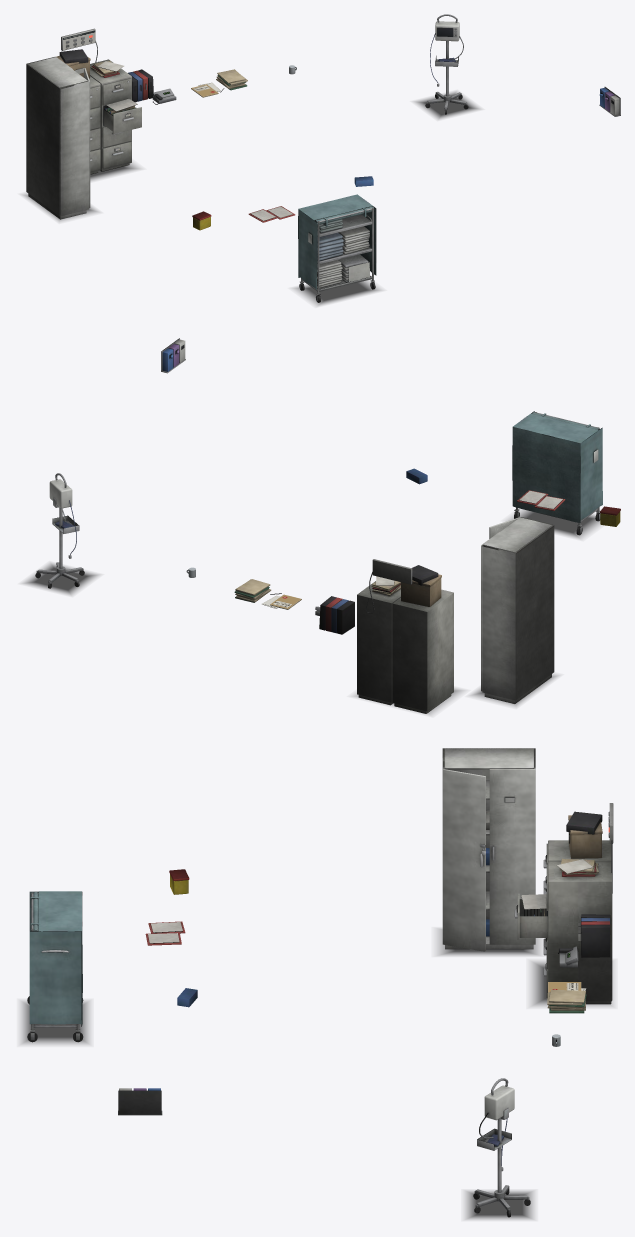
File: station_set.glb
The picture shows the model from 3 angles, top to bottom: view 1: azimuth 30°, elevation 25°; view 2: azimuth 150°, elevation 25°; view 3: azimuth 270°, elevation 25°; orthographic projection. The views are drawn at different scales.
Visible parts, largest first — view 1: station_supply_cupboard, station_linen_trolley, station_cabinet_b, station_paperwork, station_contact_shadows, station_cabinet_a, station_obs_machine, station_print, station_glove_dispenser; view 2: station_supply_cupboard, station_linen_trolley, station_cabinet_a, station_cabinet_b, station_paperwork, station_contact_shadows, station_obs_machine, station_annunciator, station_glove_dispenser; view 3: station_supply_cupboard, station_cabinet_b, station_linen_trolley, station_contact_shadows, station_paperwork, station_obs_machine, station_cabinet_a, station_glove_dispenser.
Part boxes in pixels (left/top/right/bottom): station_supply_cupboard: left=26, top=57, right=90, bottom=219; station_linen_trolley: left=298, top=194, right=376, bottom=302; station_cabinet_b: left=90, top=59, right=141, bottom=171; station_paperwork: left=128, top=65, right=373, bottom=230; station_contact_shadows: left=23, top=91, right=479, bottom=305; station_cabinet_a: left=56, top=49, right=100, bottom=174; station_obs_machine: left=425, top=14, right=468, bottom=114; station_print: left=63, top=30, right=219, bottom=96; station_glove_dispenser: left=599, top=87, right=620, bottom=116; station_supply_cupboard: left=481, top=517, right=554, bottom=703; station_linen_trolley: left=512, top=411, right=602, bottom=535; station_cabinet_a: left=392, top=565, right=453, bottom=713; station_cabinet_b: left=357, top=576, right=400, bottom=705; station_paperwork: left=186, top=468, right=620, bottom=634; station_contact_shadows: left=23, top=510, right=599, bottom=714; station_obs_machine: left=35, top=473, right=84, bottom=588; station_annunciator: left=366, top=559, right=412, bottom=613; station_glove_dispenser: left=161, top=338, right=185, bottom=373; station_supply_cupboard: left=442, top=748, right=535, bottom=951; station_cabinet_b: left=514, top=858, right=612, bottom=1004; station_linen_trolley: left=27, top=891, right=83, bottom=1042; station_contact_shadows: left=21, top=929, right=612, bottom=1219; station_paperwork: left=145, top=869, right=610, bottom=1046; station_obs_machine: left=473, top=1078, right=530, bottom=1217; station_cabinet_a: left=543, top=811, right=611, bottom=955; station_glove_dispenser: left=118, top=1088, right=162, bottom=1115.
Size of the model in its own units: 6.95 by 1.95 by 5.87.
Materials: 5 (4 with a texture image).
